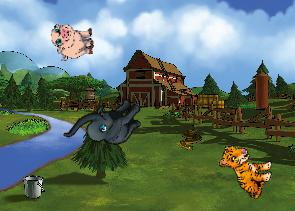elephant: (62, 79, 149, 168)
pig: (50, 20, 95, 61)
tiger: (212, 141, 277, 201)
